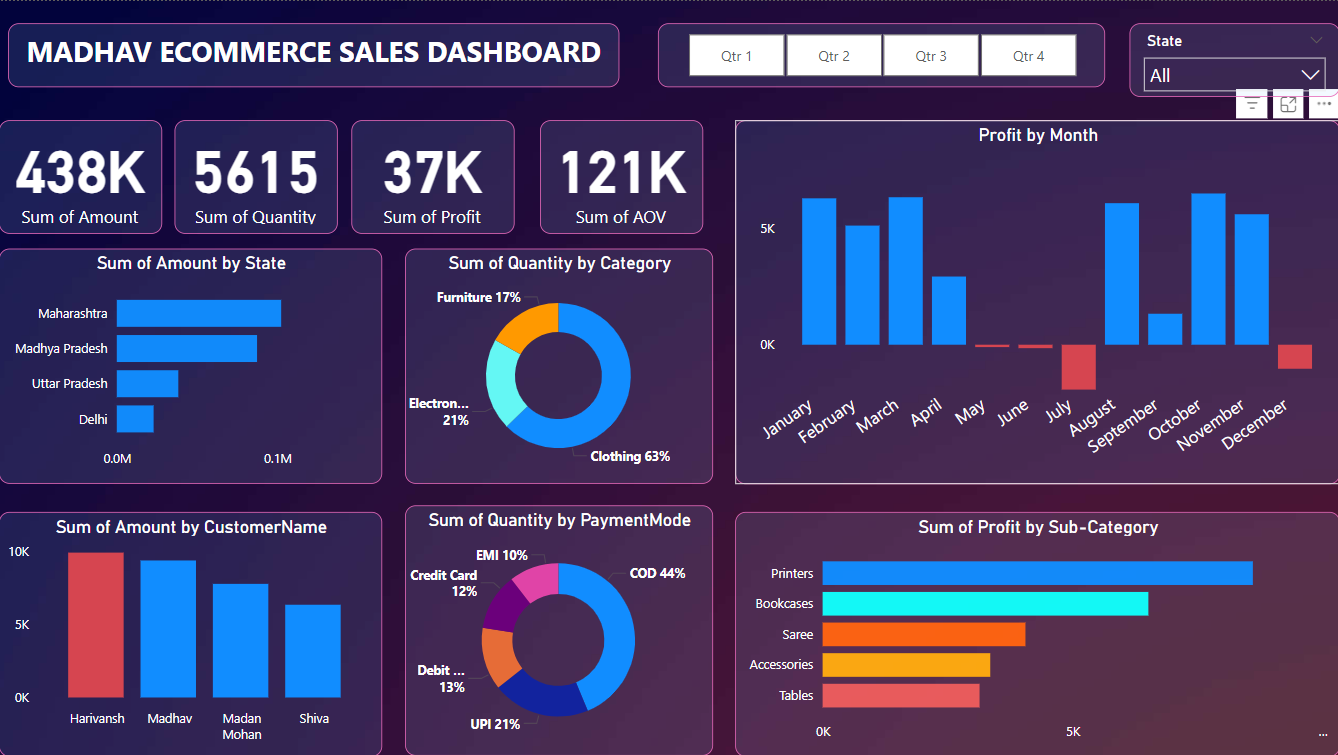

This screenshot's page, from the dashboard's own definition file:
{"tool":"powerbi","page":{"name":"Page 1","canvas":[1280,720],"ordinal":0},"visuals":[{"type":"textbox","box":[9.1,20.9,583.6,61.4],"z":0},{"type":"columnChart","title":"Profit by Month","fields":{"Category":["Orders.Order Date.Variation.Date Hierarchy.Month"],"Y":["Sum(Details.Profit)"]},"box":[702.4,113.6,577,347.3],"z":1000},{"type":"barChart","fields":{"Category":["Details.Sub-Category"],"Y":["Sum(Details.Profit)"]},"box":[702.4,486.9,577,233.7],"z":2000},{"type":"donutChart","fields":{"Category":["Details.Category"],"Y":["Sum(Details.Quantity)"]},"box":[387.7,236.3,293.7,224.5],"z":3000},{"type":"donutChart","fields":{"Category":["Details.PaymentMode"],"Y":["Sum(Details.Quantity)"]},"box":[387.7,481.7,293.7,238.9],"z":4000},{"type":"card","fields":{"Values":["Sum(Details.Amount)"]},"box":[0,113.6,155.4,108.4],"z":5000},{"type":"card","fields":{"Values":["Sum(Details.Quantity)"]},"box":[167.1,113.6,155.4,108.4],"z":6000},{"type":"card","fields":{"Values":["Sum(Details.Profit)"]},"box":[336.8,113.6,155.4,108.4],"z":7000},{"type":"card","fields":{"Values":["Sum(Details.AOV)"]},"box":[515.7,113.6,155.4,108.4],"z":8000},{"type":"barChart","fields":{"Category":["Orders.State"],"Y":["Sum(Details.Amount)"]},"box":[0,236.3,365.5,224.5],"z":9000},{"type":"columnChart","fields":{"Category":["Orders.CustomerName"],"Y":["Sum(Details.Amount)"]},"box":[0,486.9,365.5,233.7],"z":10000},{"type":"slicer","fields":{"Values":["Orders.Order Date.Variation.Date Hierarchy.Quarter"]},"box":[629.2,20.9,426.9,61.4],"z":11000},{"type":"slicer","fields":{"Values":["Orders.State"]},"box":[1078.3,20.9,201,70.5],"z":11001}]}

Visuals, with their boxes in screenshot pixels (x1, y1, x2, y2), scaled from the page's 1280x720 canvas onto the 1338x755 screenshot:
textbox: region(10, 22, 620, 86)
"Profit by Month" columnChart: region(734, 119, 1337, 483)
barChart - Details.Sub-Category x Sum(Details.Profit): region(734, 511, 1337, 754)
donutChart - Details.Category x Sum(Details.Quantity): region(405, 248, 712, 483)
donutChart - Details.PaymentMode x Sum(Details.Quantity): region(405, 505, 712, 754)
card - Sum(Details.Amount): region(0, 119, 162, 233)
card - Sum(Details.Quantity): region(175, 119, 337, 233)
card - Sum(Details.Profit): region(352, 119, 515, 233)
card - Sum(Details.AOV): region(539, 119, 702, 233)
barChart - Orders.State x Sum(Details.Amount): region(0, 248, 382, 483)
columnChart - Orders.CustomerName x Sum(Details.Amount): region(0, 511, 382, 754)
slicer - Orders.Order Date.Variation.Date Hierarchy.Quarter: region(658, 22, 1104, 86)
slicer - Orders.State: region(1127, 22, 1337, 96)
